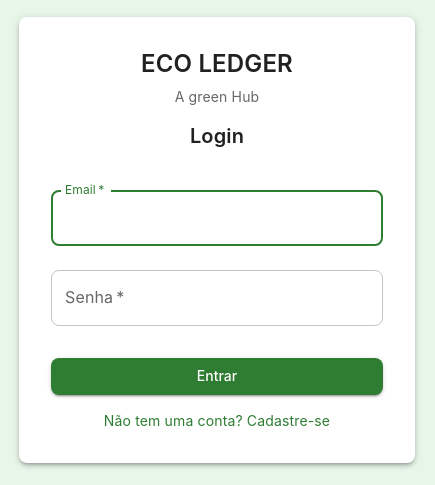
it: LoginPage › should show loading state during login
Step 1. Type "test@example.com" into the field labelled "Email *" → (217,218), box left=51, top=190, right=383, bottom=246
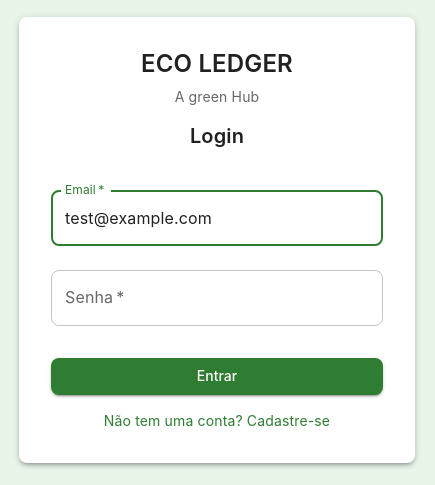
Step 2. Type "password123" into the password field labelled "Senha *" → (217,298), box left=51, top=270, right=383, bottom=326
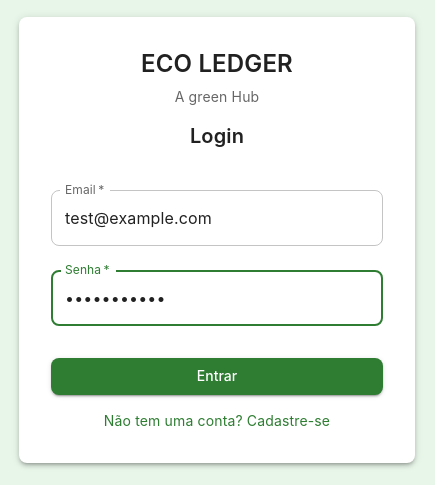
Step 3. Click the button "Entrar" → (217,376), box left=51, top=358, right=383, bottom=395
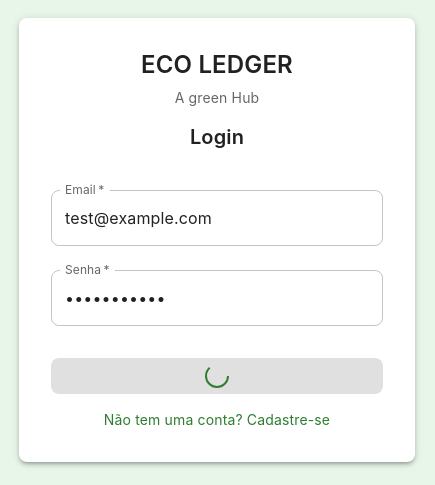
Now the progress indicator is shown, box left=205, top=364, right=229, bottom=388
